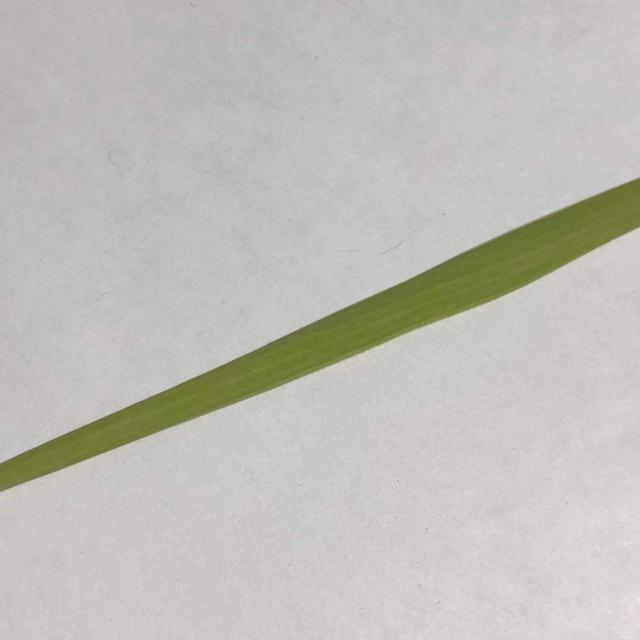Rice_Healthy: (0, 178, 640, 491)
